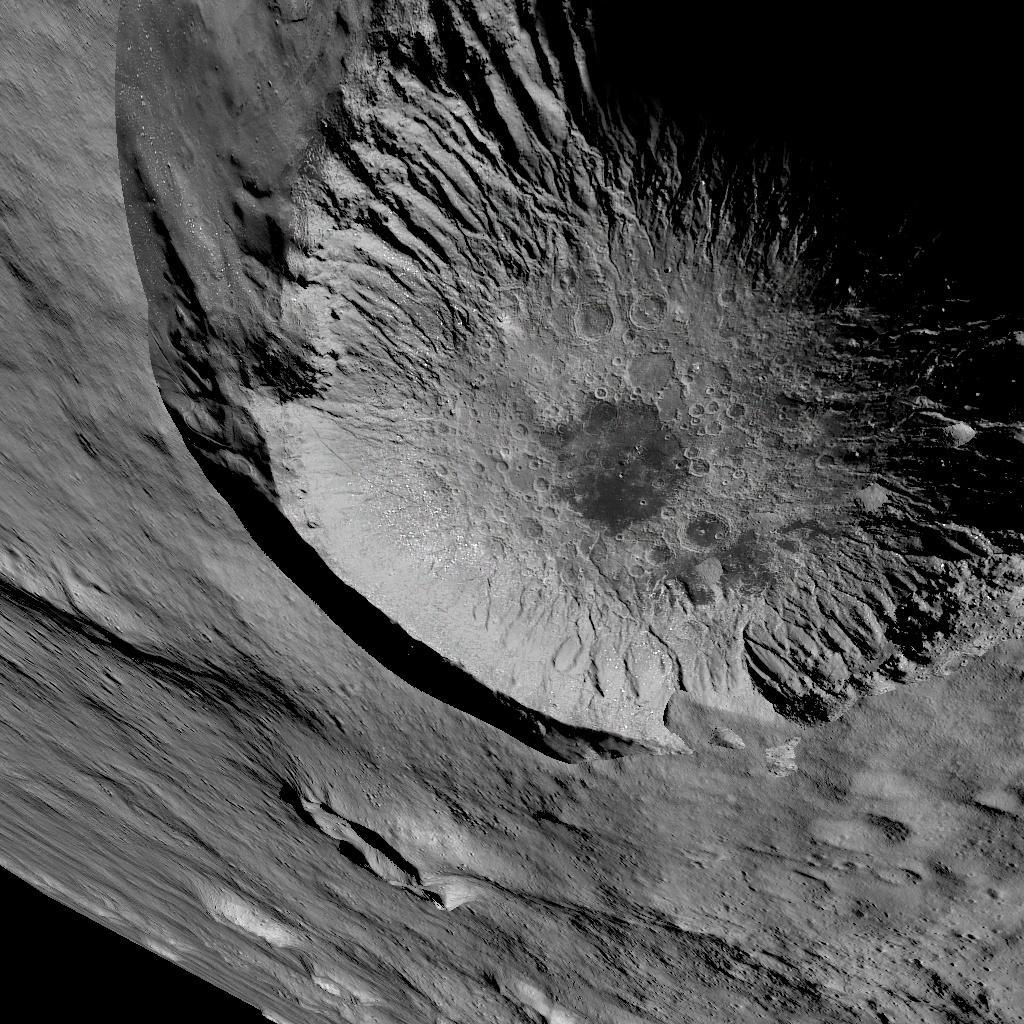Crater: (93, 0, 1024, 754), (256, 779, 462, 914)
Plan surface: (505, 796, 1024, 1024)
